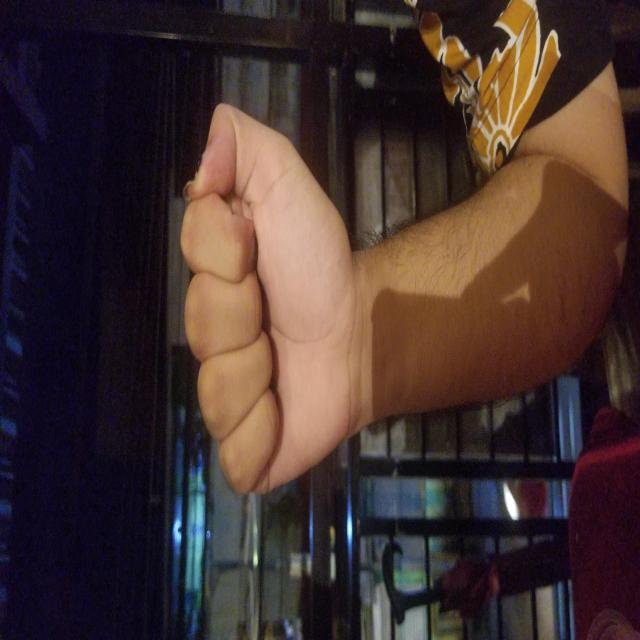A: (139, 180, 536, 357)
